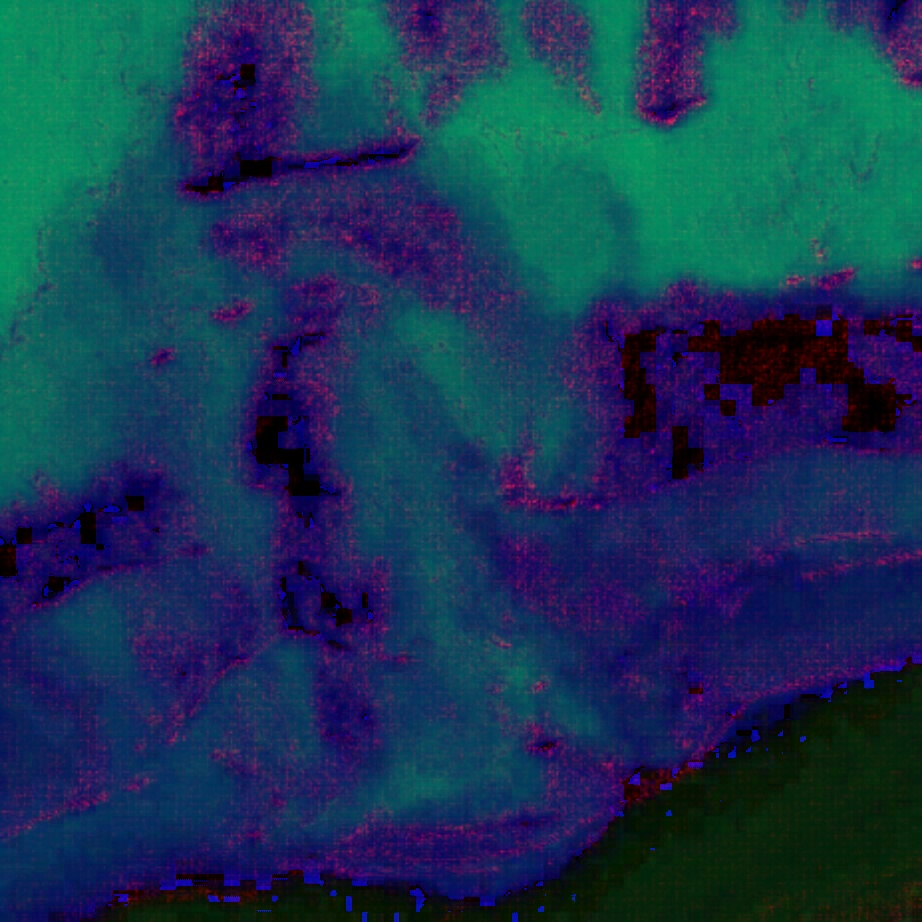rip_current: (262, 155, 662, 825)
